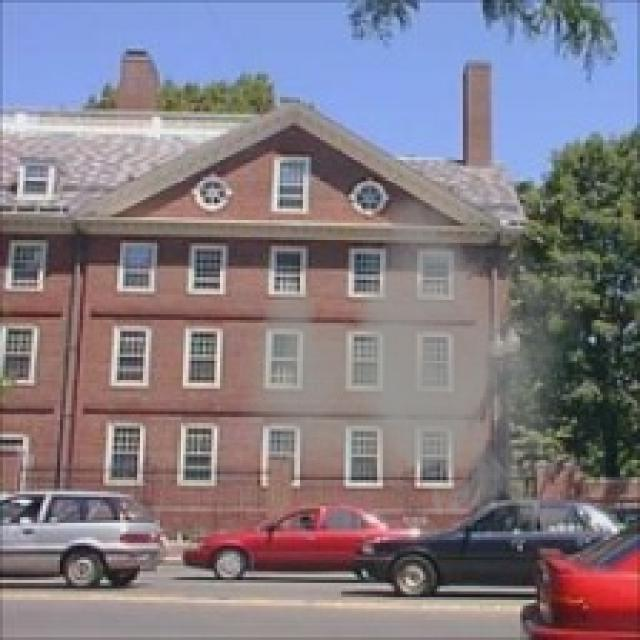smoke: (240, 183, 589, 540)
